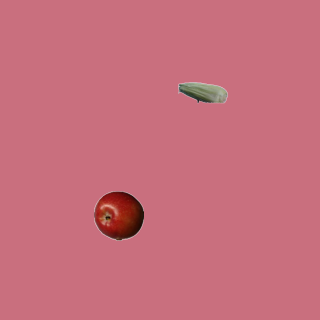Apple Braeburn: (93, 190, 143, 240)
Corn Husk: (177, 67, 227, 117)
